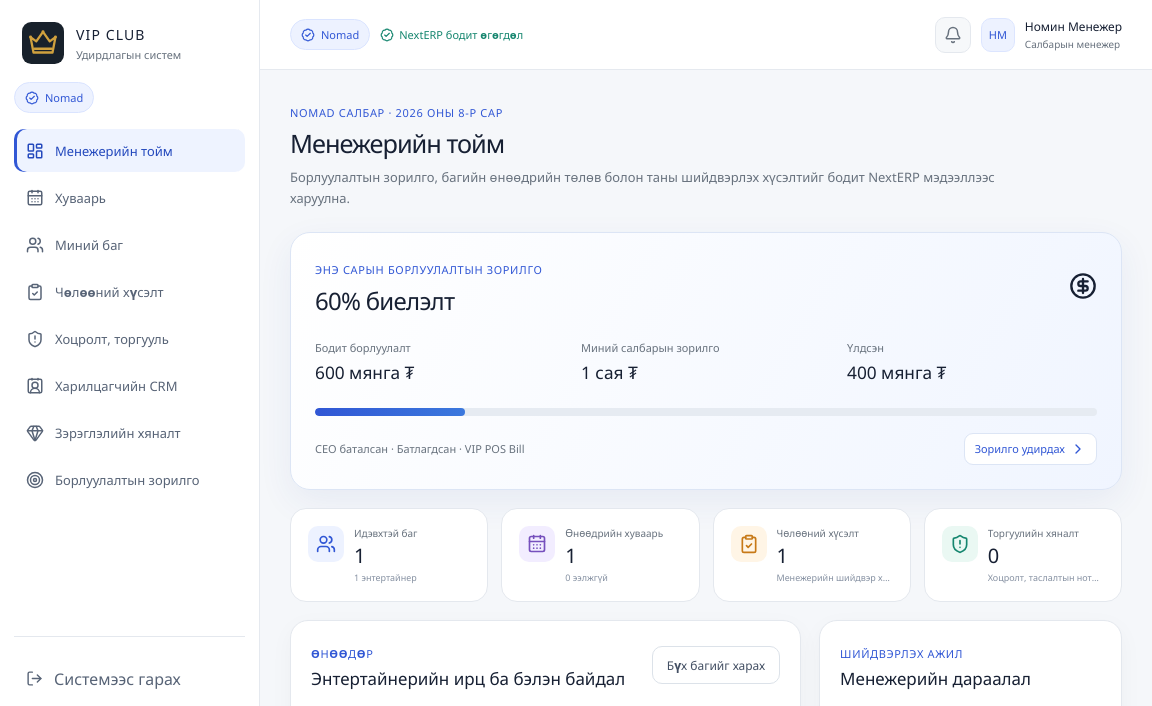
Test: live role-aware management application › opens the live CRM without exposing a full phone
Expected: the heading "Менежерийн тойм" is shown, 290,126 -> 504,160
What coordinates should you click on to do the following:
click the button "Харилцагчийн CRM"
I would click on:
 (130, 386)
Its box is 14,364 -> 245,407.
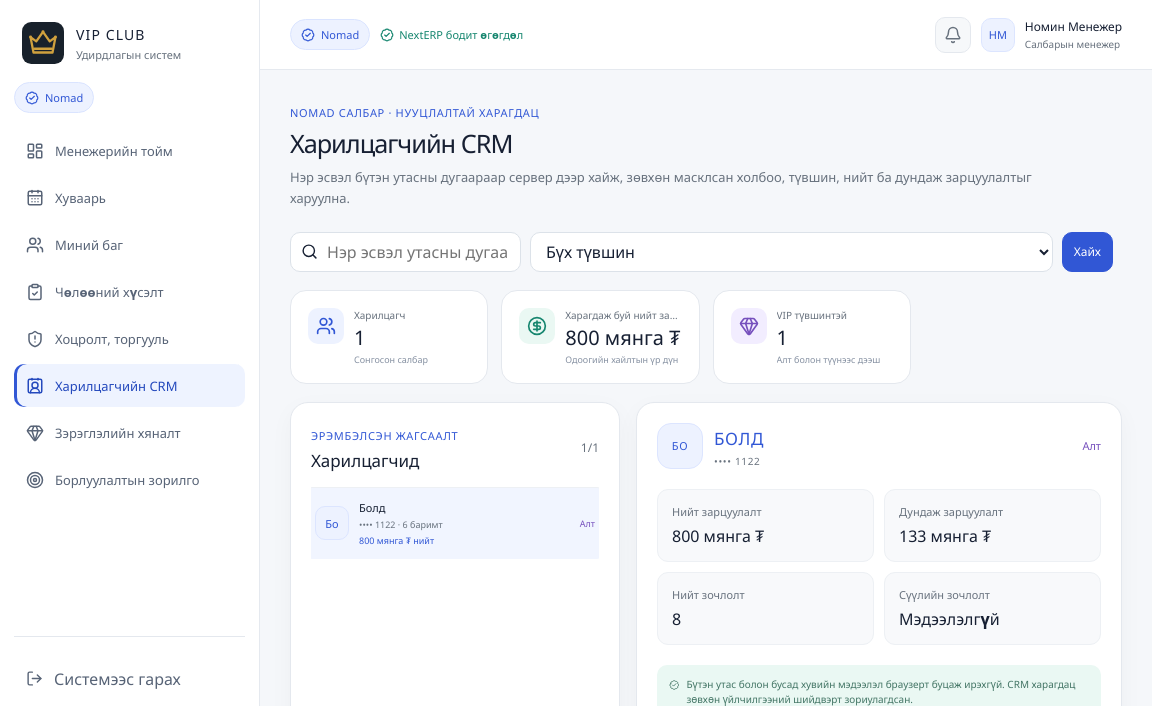
Now the heading "Харилцагчийн CRM" is shown, box 290,126 -> 512,160
